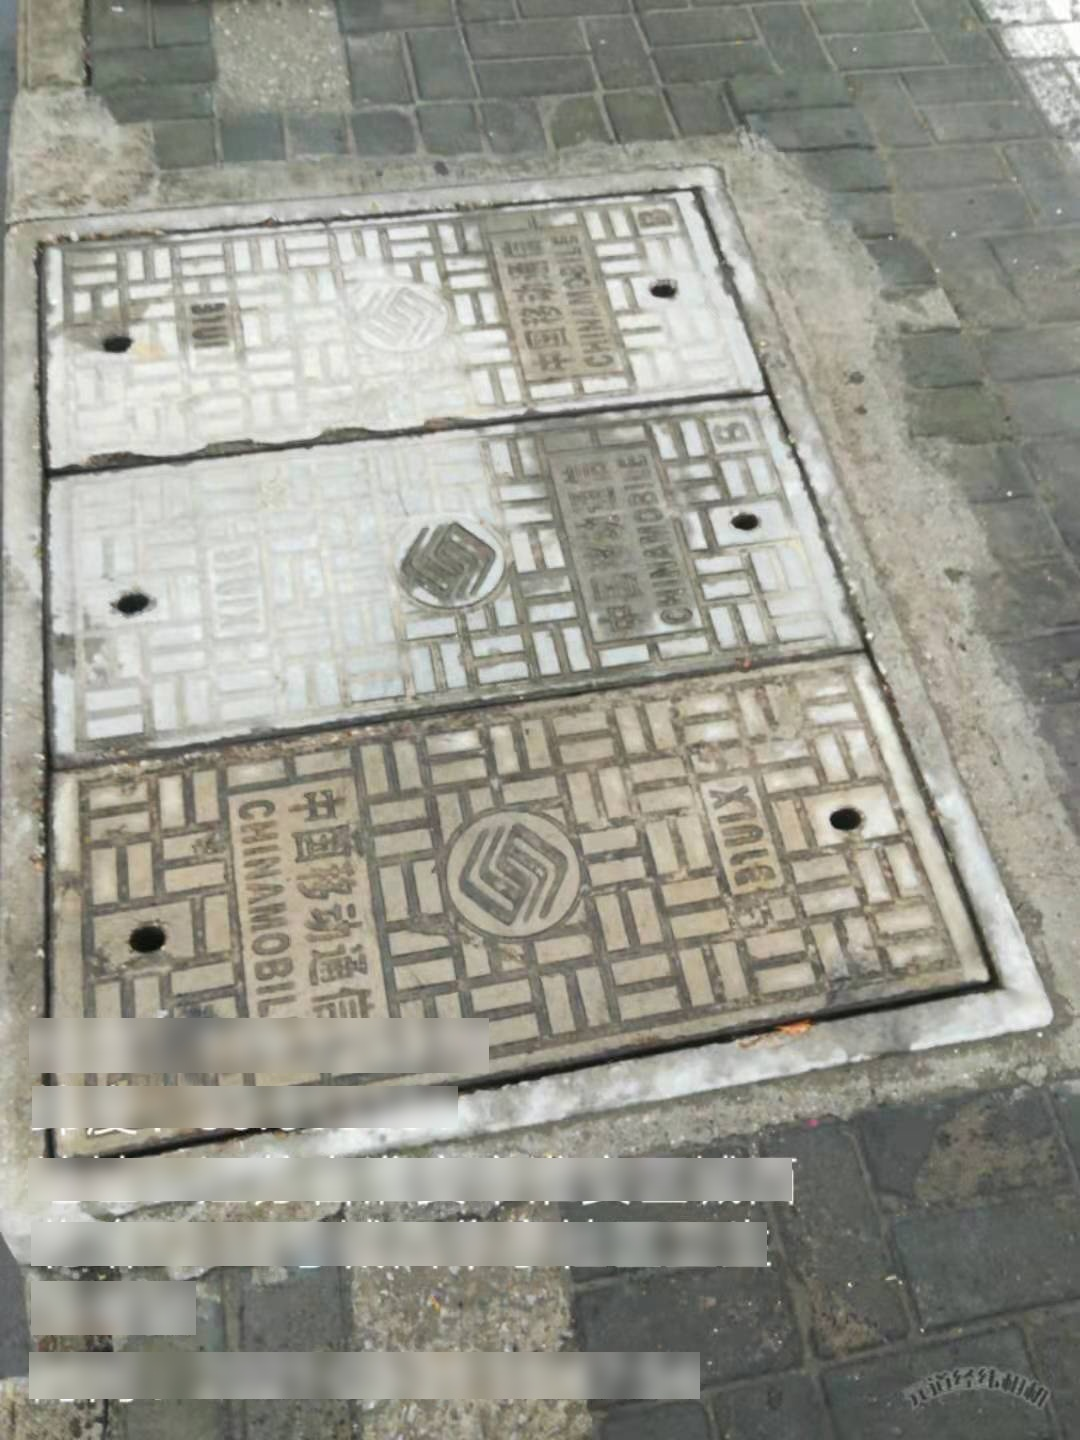good: (5, 166, 1062, 1263)
